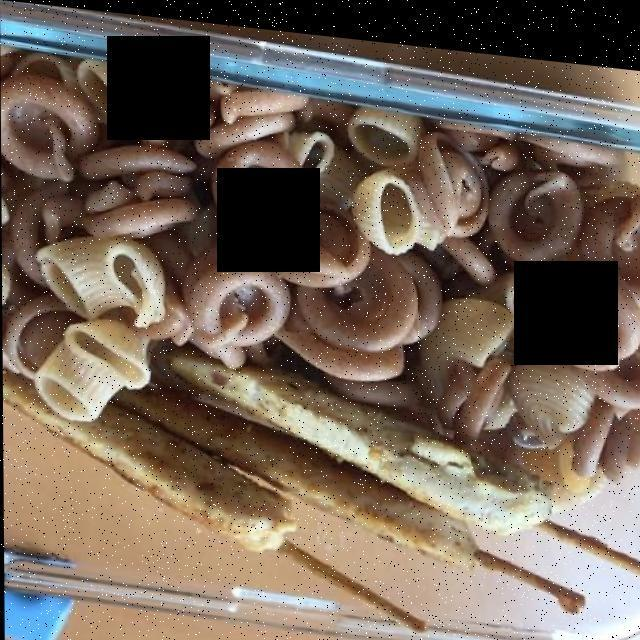chicken: (6, 360, 586, 544)
pasta: (7, 38, 632, 482)
